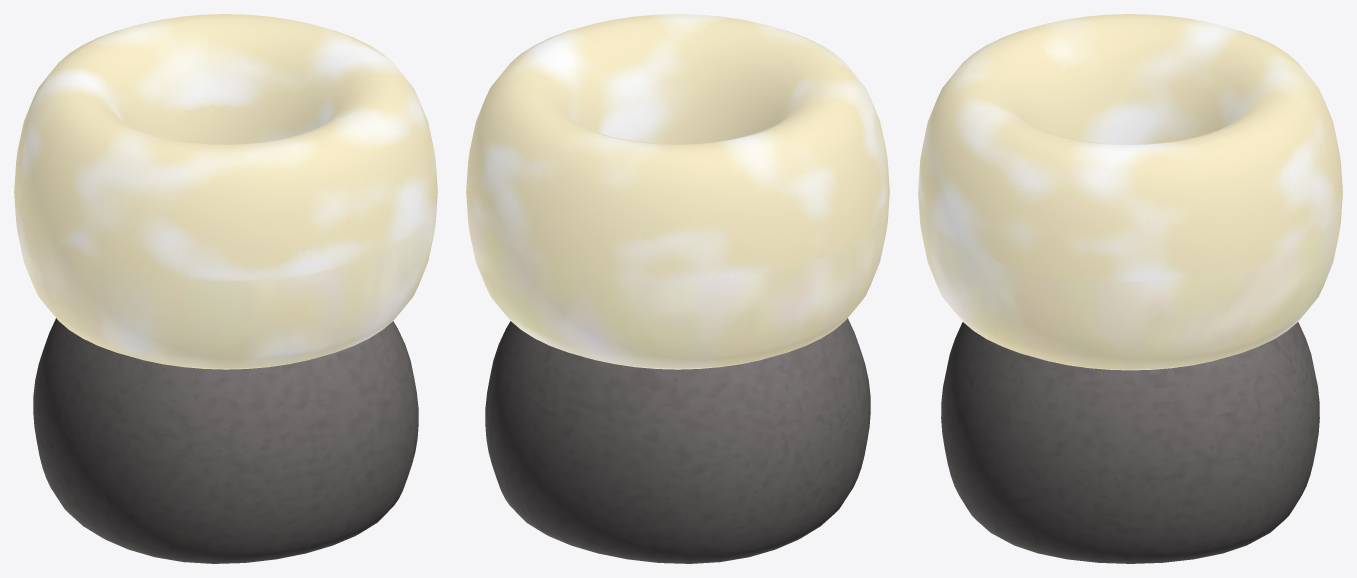
Rendered from lamp1-transformed.glb.
The picture shows the model from 3 angles, left to right: view 1: azimuth 30°, elevation 25°; view 2: azimuth 150°, elevation 25°; view 3: azimuth 270°, elevation 25°; orthographic projection.
Visible parts, largest first — view 1: Torus, Cube; view 2: Torus, Cube; view 3: Torus, Cube.
Boxes of the visible parts, bbox=[...] form: Torus: bbox=[14, 14, 437, 369]; Cube: bbox=[33, 318, 418, 563]; Torus: bbox=[466, 14, 889, 369]; Cube: bbox=[485, 318, 870, 563]; Torus: bbox=[918, 14, 1342, 370]; Cube: bbox=[941, 322, 1319, 563].
Size of the model in its own units: 1.79 by 1.93 by 1.79.
2 materials, 2 textured.
